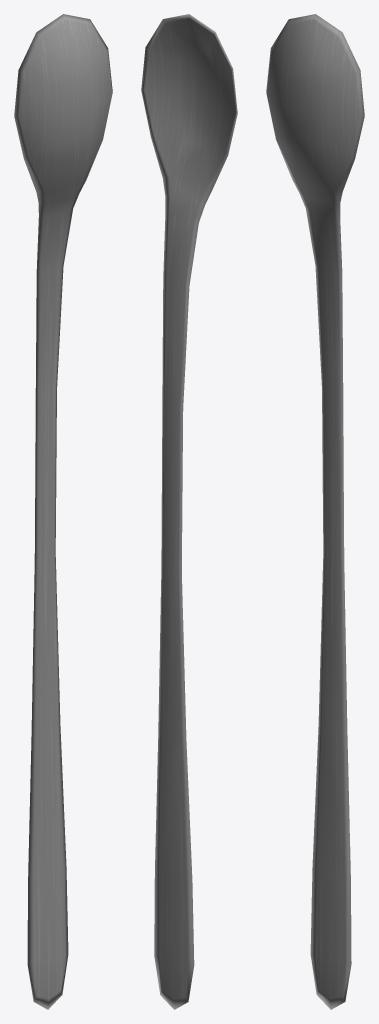
File: spoonlong.glb
3 views of the same model, side by side, from view 1: azimuth 30°, elevation 25°; view 2: azimuth 150°, elevation 25°; view 3: azimuth 330°, elevation 25° (orthographic). The views are drawn at different scales.
Parts seen in each view (by area): view 1: spoonlong; view 2: spoonlong; view 3: spoonlong.
Boxes of the visible parts, x1,y1,x2,y2 form: spoonlong: (14, 14, 112, 1009); spoonlong: (141, 14, 237, 1009); spoonlong: (266, 14, 364, 1009).
Size of the model in its own units: 0.031 by 0.3027 by 0.0165.
Materials: 1 (1 with a texture image).
